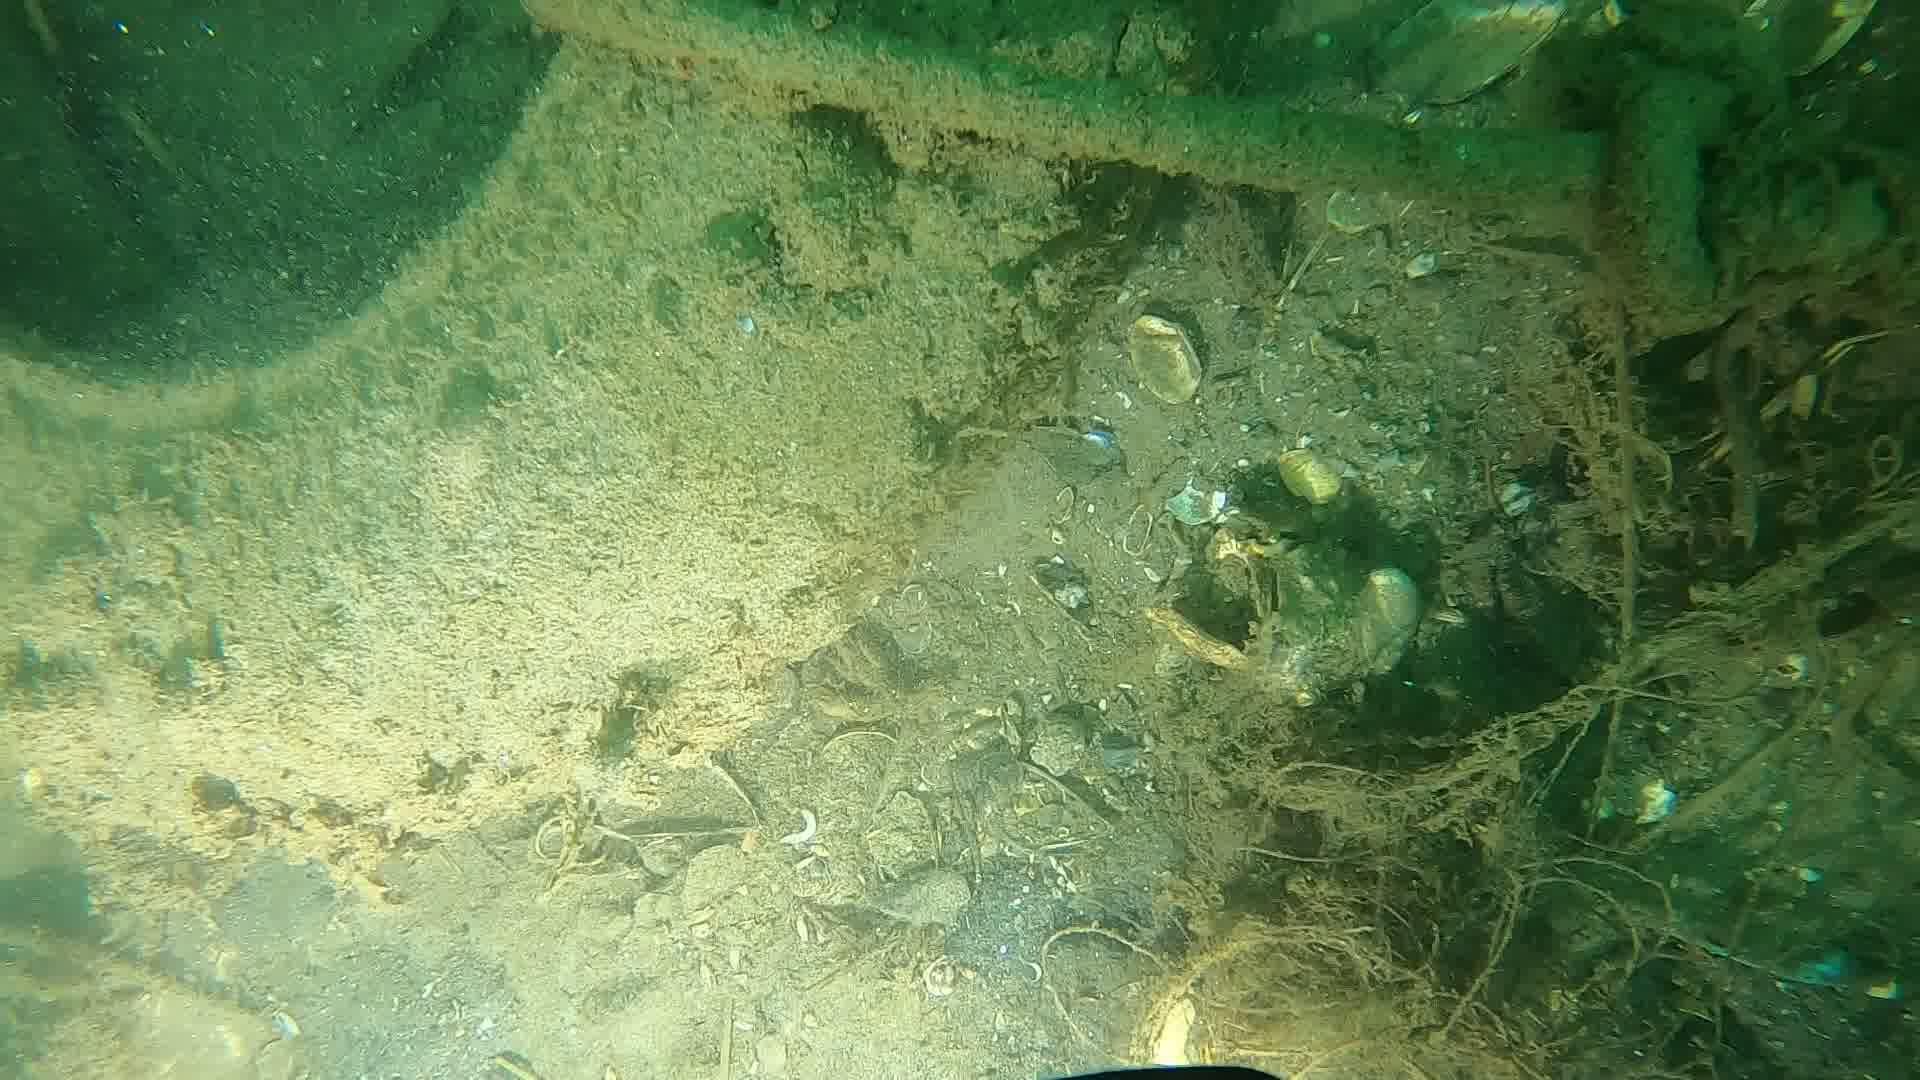tire: (0, 0, 1164, 858)
